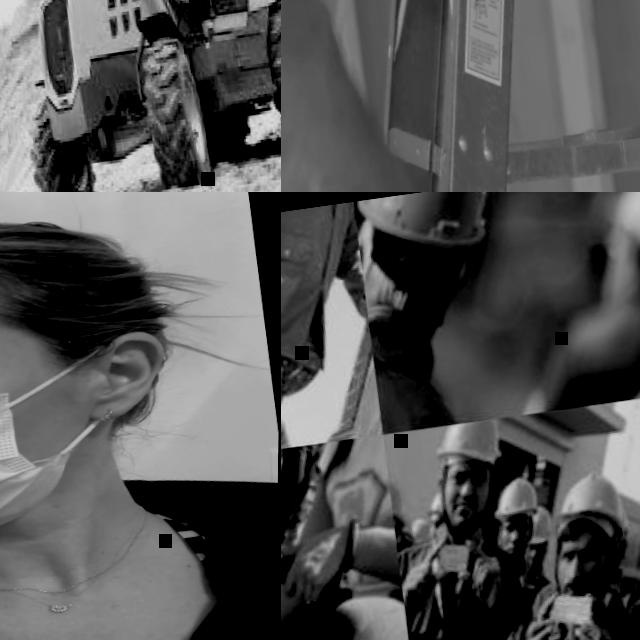Hardhat: (358, 192, 493, 258), (548, 467, 630, 539), (433, 414, 510, 468), (485, 476, 541, 520), (590, 192, 637, 238), (617, 192, 640, 254), (526, 509, 559, 547), (387, 477, 410, 522), (405, 516, 435, 544), (428, 493, 444, 522)
Mask: (0, 344, 130, 569)
NO-Hardhat: (0, 195, 160, 351)
NO-Mask: (447, 492, 493, 532), (561, 570, 608, 603), (503, 540, 528, 561), (526, 558, 546, 574)
NO-Safety Vest: (0, 496, 278, 640), (310, 448, 405, 598), (396, 532, 517, 640), (281, 204, 351, 351), (554, 295, 640, 388), (534, 272, 616, 356), (519, 570, 553, 614)
Person: (0, 192, 281, 640), (347, 192, 522, 427), (426, 464, 640, 640), (383, 418, 539, 640), (281, 0, 457, 192), (281, 436, 441, 640), (516, 192, 640, 411), (281, 202, 383, 459), (575, 382, 640, 640), (523, 192, 640, 330), (605, 192, 640, 393), (506, 512, 564, 616), (598, 501, 640, 640), (491, 476, 544, 576), (601, 511, 640, 597), (391, 476, 421, 559), (411, 512, 435, 552)
Safety Vest: (281, 0, 372, 49)
vehicle: (0, 0, 281, 192)
